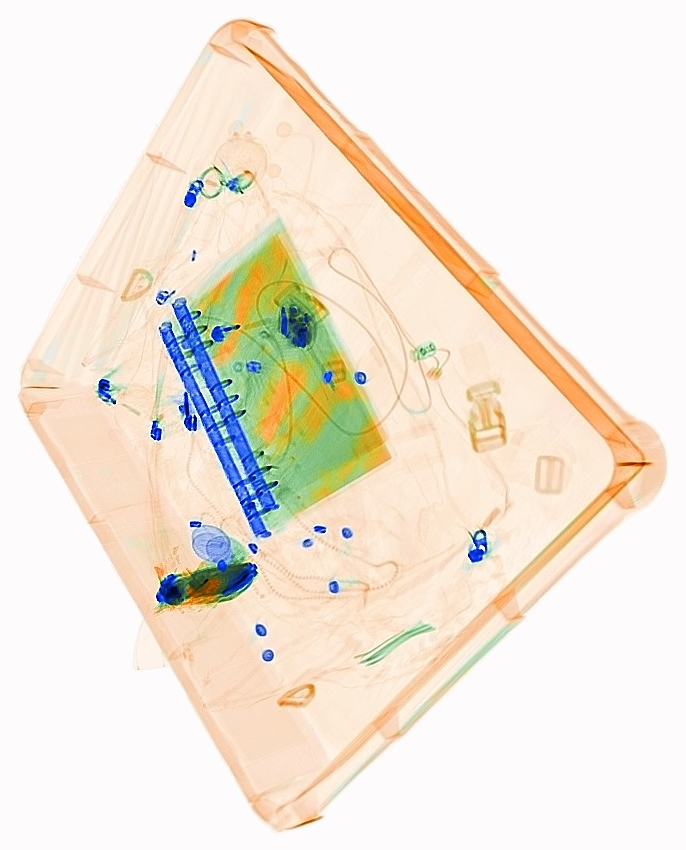FeLighter: (147, 541, 264, 619)
